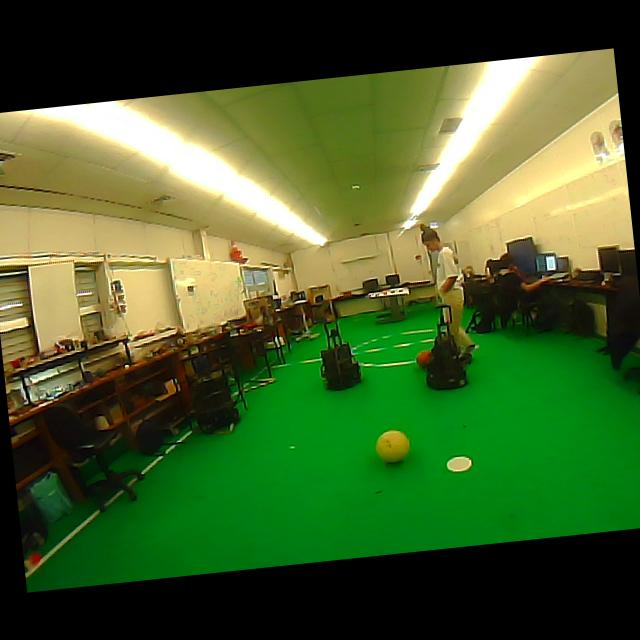ball: (376, 430, 410, 462), (416, 350, 432, 367)
robot: (425, 305, 469, 390), (321, 300, 361, 388), (190, 375, 239, 433)
